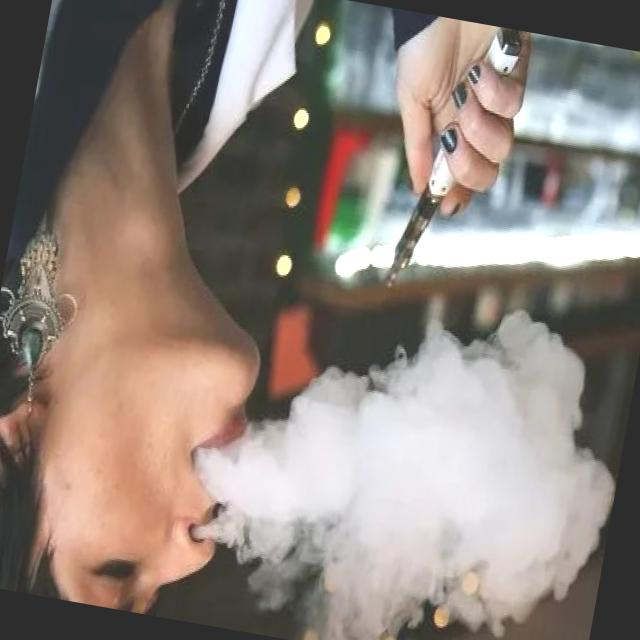smoke: (372, 13, 525, 307)
